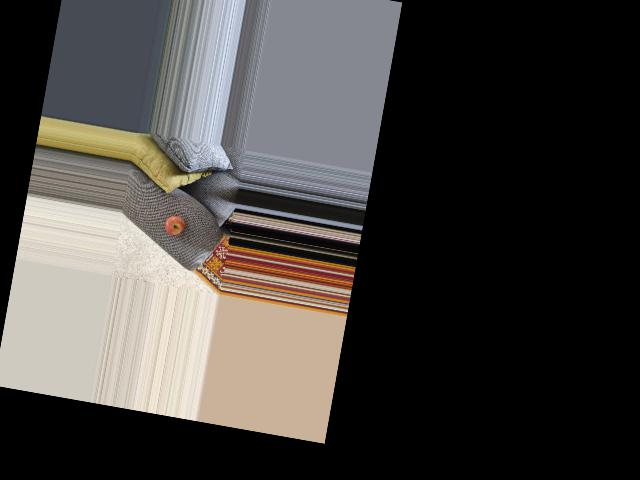apple: (163, 212, 188, 237)
